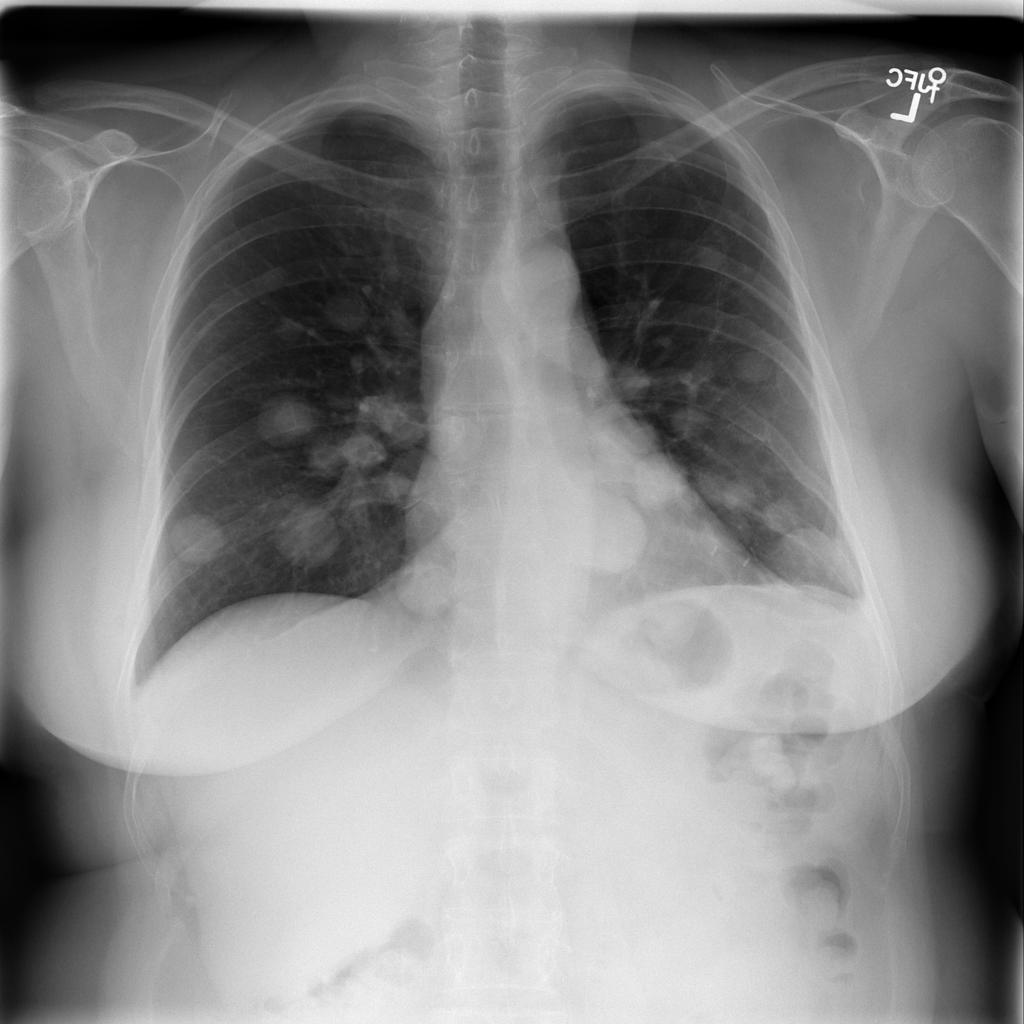nodule: (259, 493, 350, 566), (388, 543, 465, 623), (767, 520, 848, 591), (158, 504, 236, 575), (244, 386, 324, 453), (621, 451, 700, 514), (312, 422, 385, 486), (720, 332, 789, 399), (307, 278, 380, 340), (695, 472, 764, 532), (431, 407, 481, 462), (685, 233, 741, 281), (749, 490, 807, 536), (662, 401, 717, 449), (609, 356, 661, 402)
